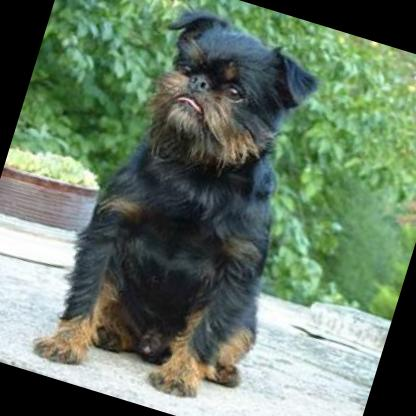Brabancon_griffon: (24, 0, 343, 416)
